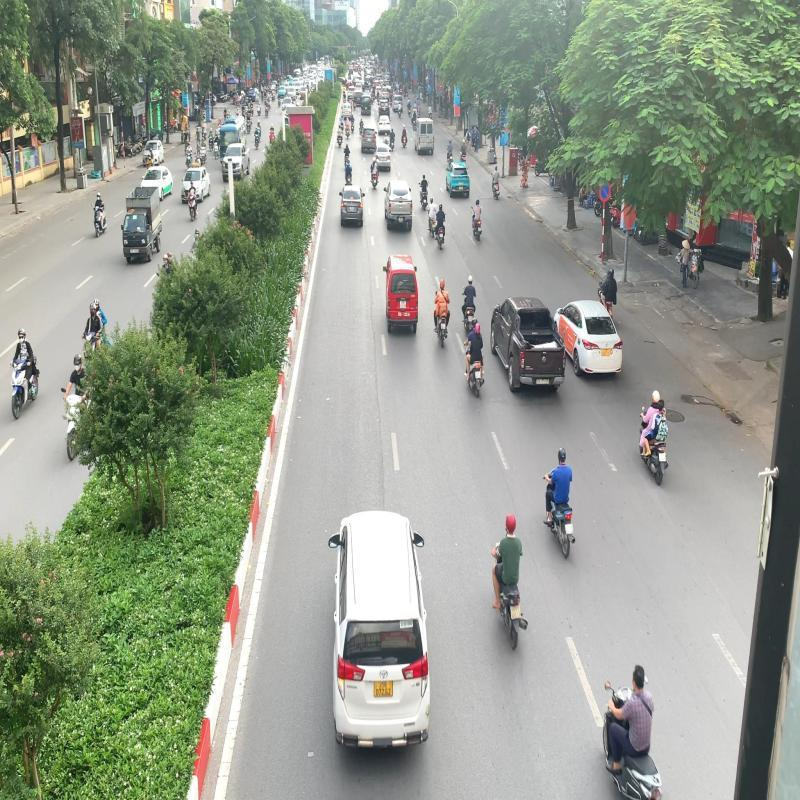helmet: (505, 512, 516, 534), (558, 446, 566, 464), (652, 390, 660, 403)
licenseplate: (510, 604, 521, 621), (564, 523, 574, 535), (658, 453, 666, 462)
motorcyclist: (602, 662, 664, 800), (492, 513, 528, 651), (544, 446, 576, 560), (638, 389, 669, 486)
nohelmet: (632, 662, 646, 692), (658, 398, 666, 412)
